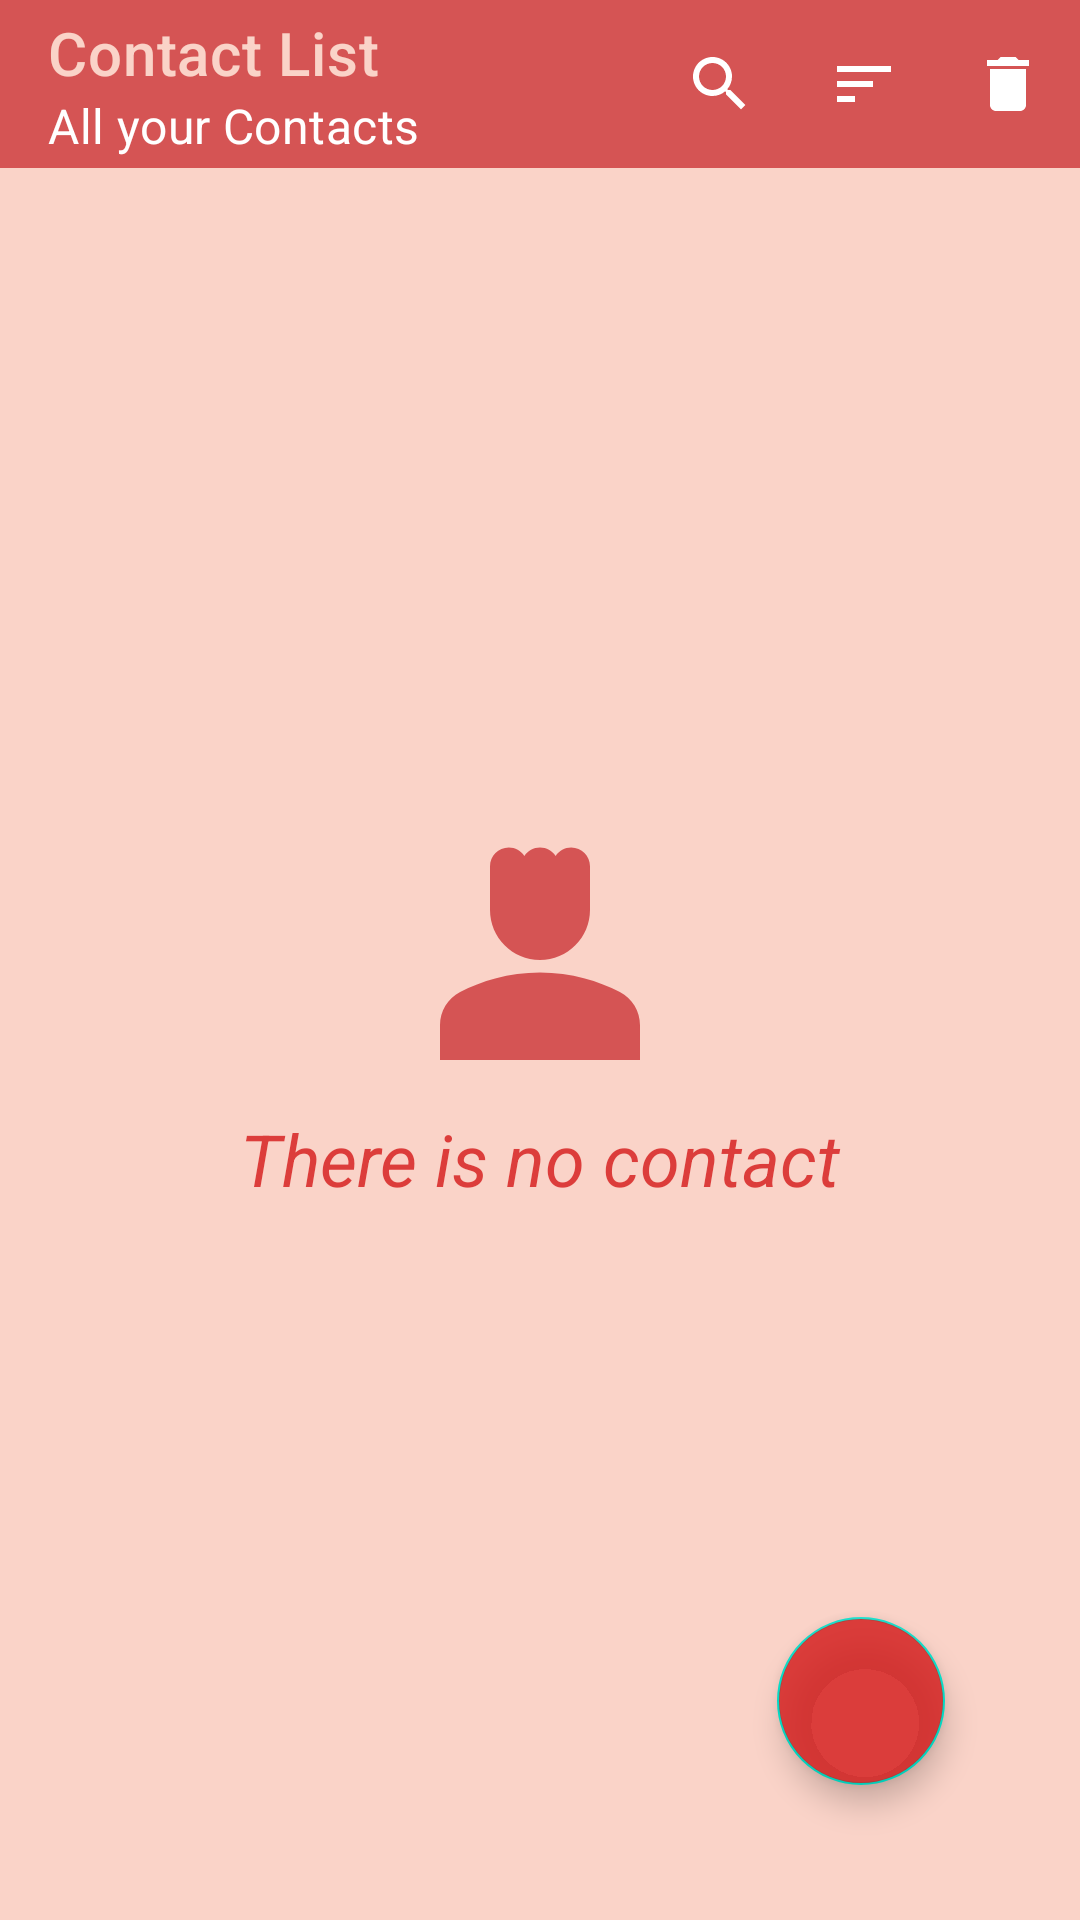

Icons on this 1080×1920 Android screen, each with its box as [left=x1, top=y1, right=x2, bottom=y2]:
person: [left=440, top=847, right=640, bottom=1060]
